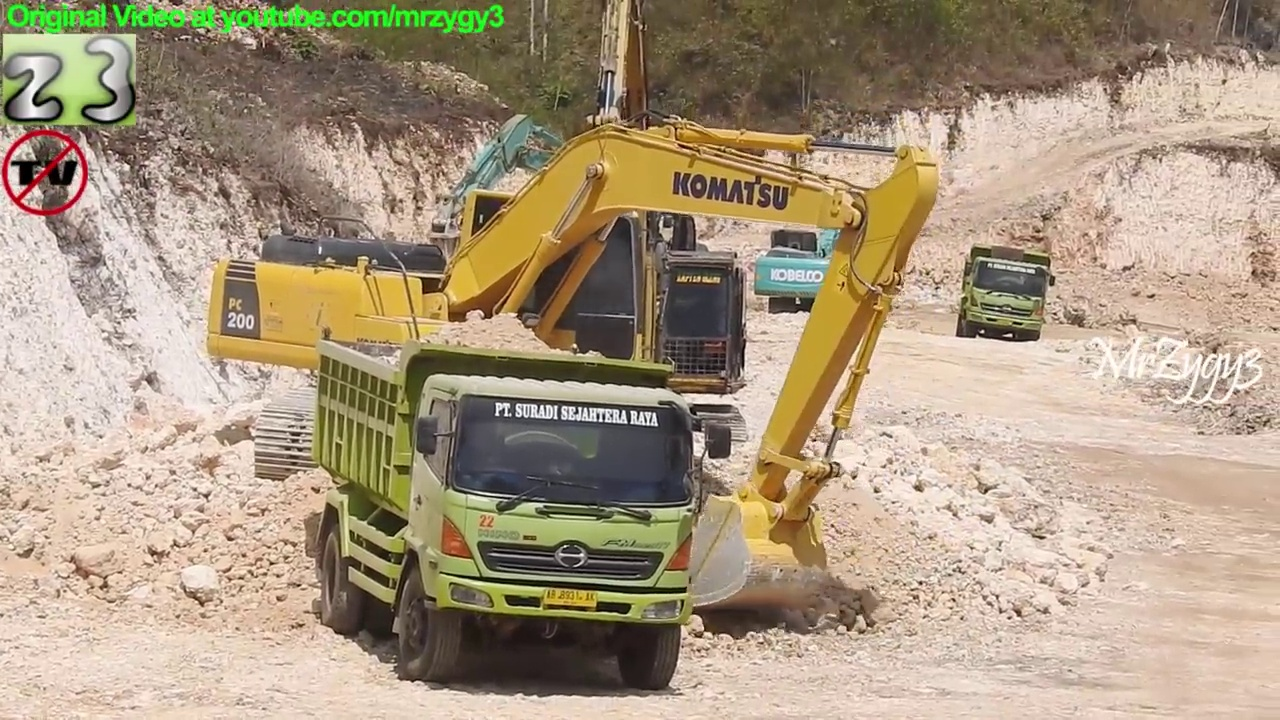excavator: (202, 113, 944, 617), (368, 1, 772, 472), (758, 186, 875, 317)
truck: (310, 327, 737, 706), (957, 240, 1061, 345)
